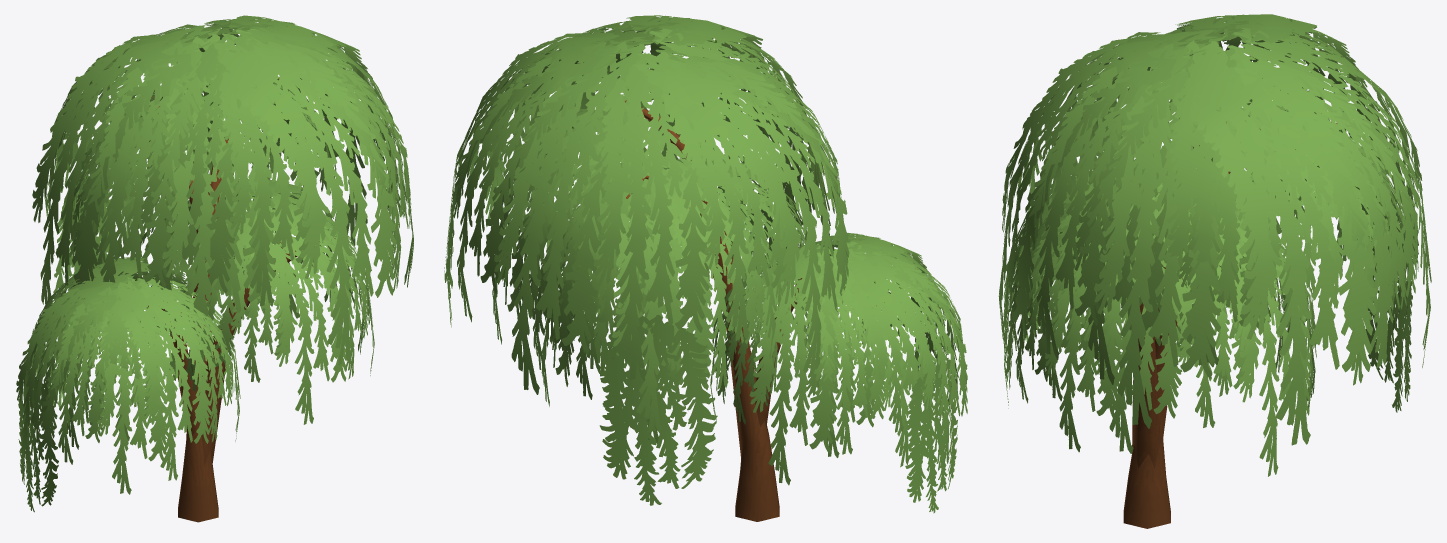
File: willow_01.glb
The picture shows the model from 3 angles, left to right: view 1: azimuth 30°, elevation 25°; view 2: azimuth 150°, elevation 25°; view 3: azimuth 270°, elevation 25°; orthographic projection. The views are drawn at different scales.
Parts seen in each view (by area): view 1: willow_01; view 2: willow_01; view 3: willow_01.
Boxes of the visible parts, x1,y1,x2,y2 form: willow_01: [16, 15, 413, 522]; willow_01: [444, 15, 967, 521]; willow_01: [998, 14, 1431, 528].
Size of the model in its own units: 13.7 by 14.19 by 10.82.
2 materials, 2 textured.
